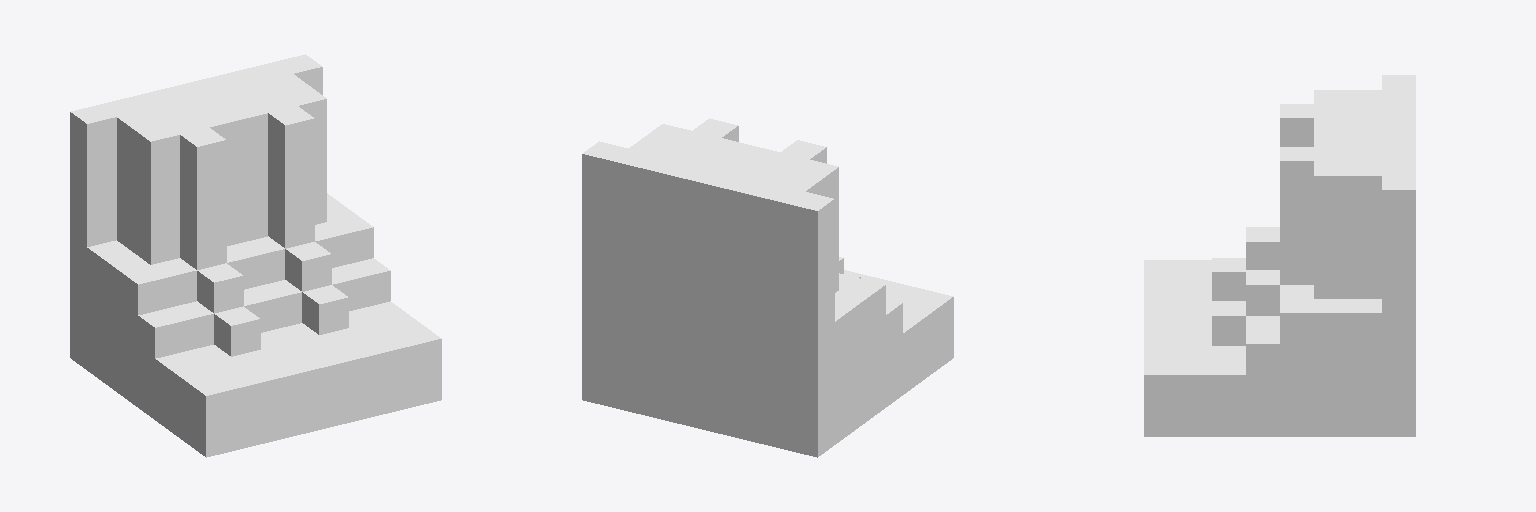
The model's file is pillar_bottom.obj.
3 renders of one model, left to right at view 1: azimuth 30°, elevation 25°; view 2: azimuth 150°, elevation 25°; view 3: azimuth 270°, elevation 25°, orthographic.
Size of the model in its own units: 1 by 1 by 1.